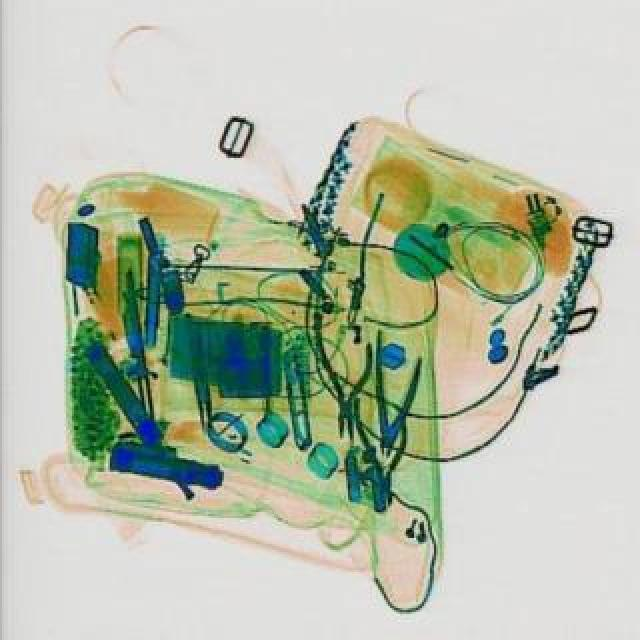wrench: (358, 334, 426, 462), (312, 312, 374, 444), (352, 404, 408, 510)
